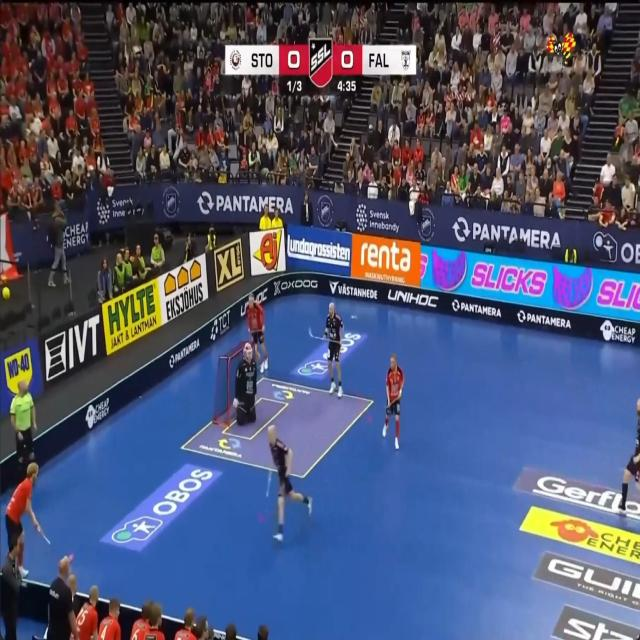player: (267, 426, 312, 541), (5, 461, 42, 577), (618, 399, 640, 514), (383, 355, 404, 450), (233, 342, 256, 425), (324, 302, 343, 397), (246, 293, 267, 372), (76, 586, 98, 639), (98, 600, 121, 639), (131, 600, 153, 639)
stick: (309, 328, 340, 343), (387, 391, 401, 407), (236, 401, 255, 412), (266, 470, 272, 497), (40, 529, 50, 545), (67, 553, 74, 561)
